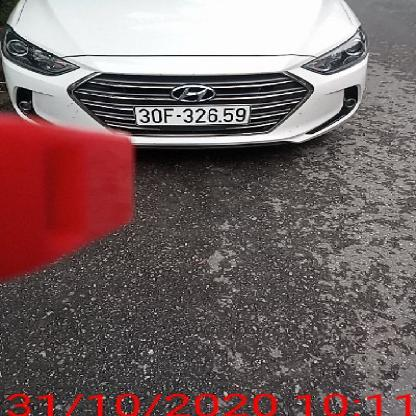biensoxe: (133, 100, 252, 129)
